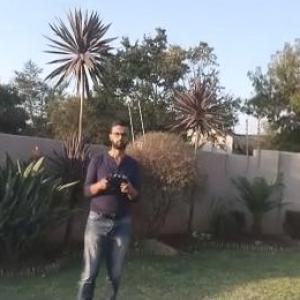follow: (74, 116, 143, 299)
